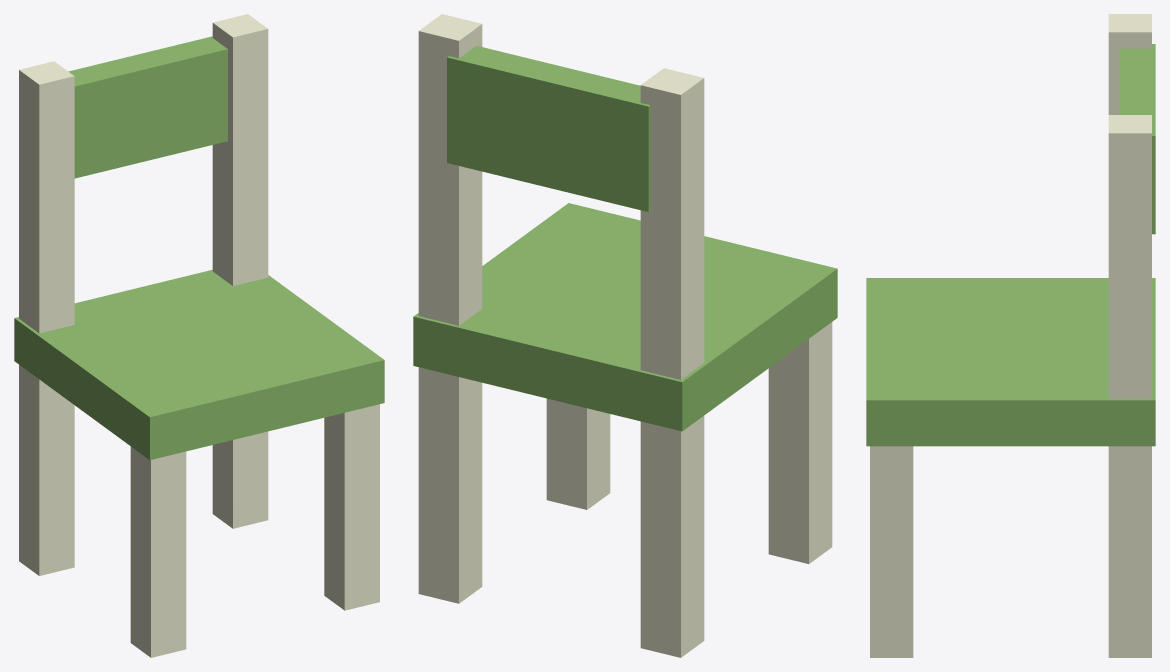
Rendered from chair2_lightgreen.glb.
3 renders of one model, left to right at view 1: azimuth 30°, elevation 25°; view 2: azimuth 150°, elevation 25°; view 3: azimuth 270°, elevation 25°, orthographic. The views are drawn at different scales.
Parts seen in each view (by area): view 1: Box006; view 2: Box006; view 3: Box006.
Part boxes in pixels (x1,y1,x2,y2): Box006: (14,14,384,657); Box006: (413,14,837,657); Box006: (866,14,1155,657).
Size of the model in its own units: 0.08 by 0.16 by 0.08.
1 material, 1 textured.
